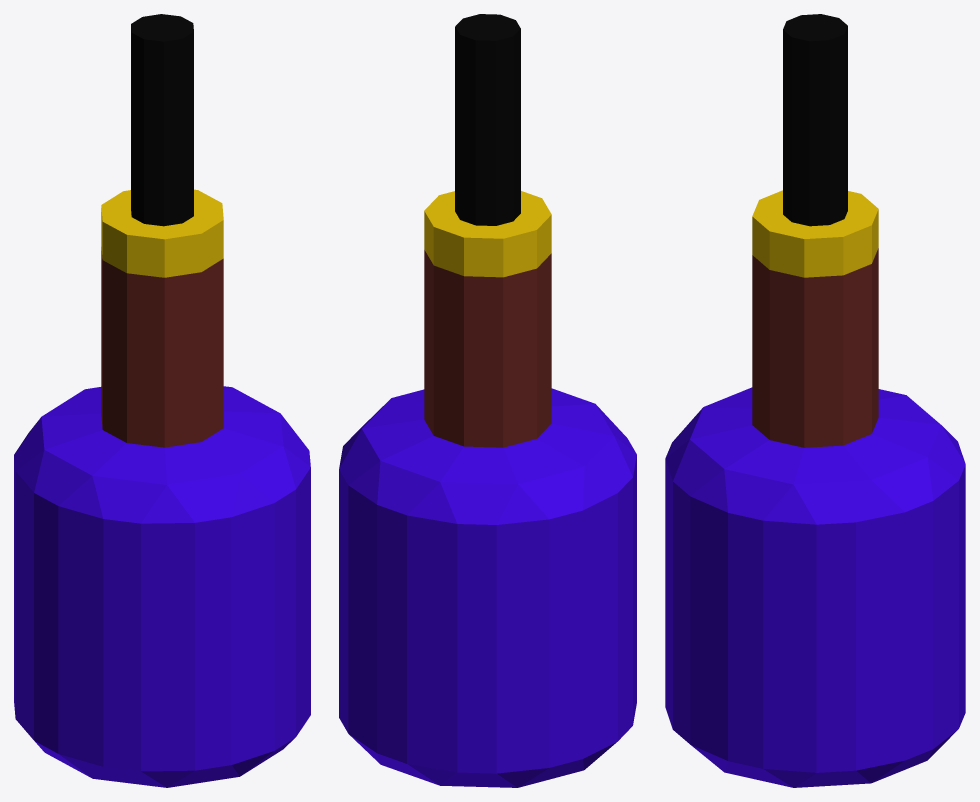
File: martilloAzulFix.fbx
3 renders of one model, left to right at view 1: azimuth 30°, elevation 25°; view 2: azimuth 150°, elevation 25°; view 3: azimuth 270°, elevation 25°, orthographic.
Parts seen in each view (by area): view 1: Cylinder; view 2: Cylinder; view 3: Cylinder.
Boxes of the visible parts, x1,y1,x2,y2 form: Cylinder: [14, 14, 310, 787]; Cylinder: [339, 14, 636, 787]; Cylinder: [665, 14, 965, 787].
Bounding box in the file's own units: 140 × 367 × 141.
